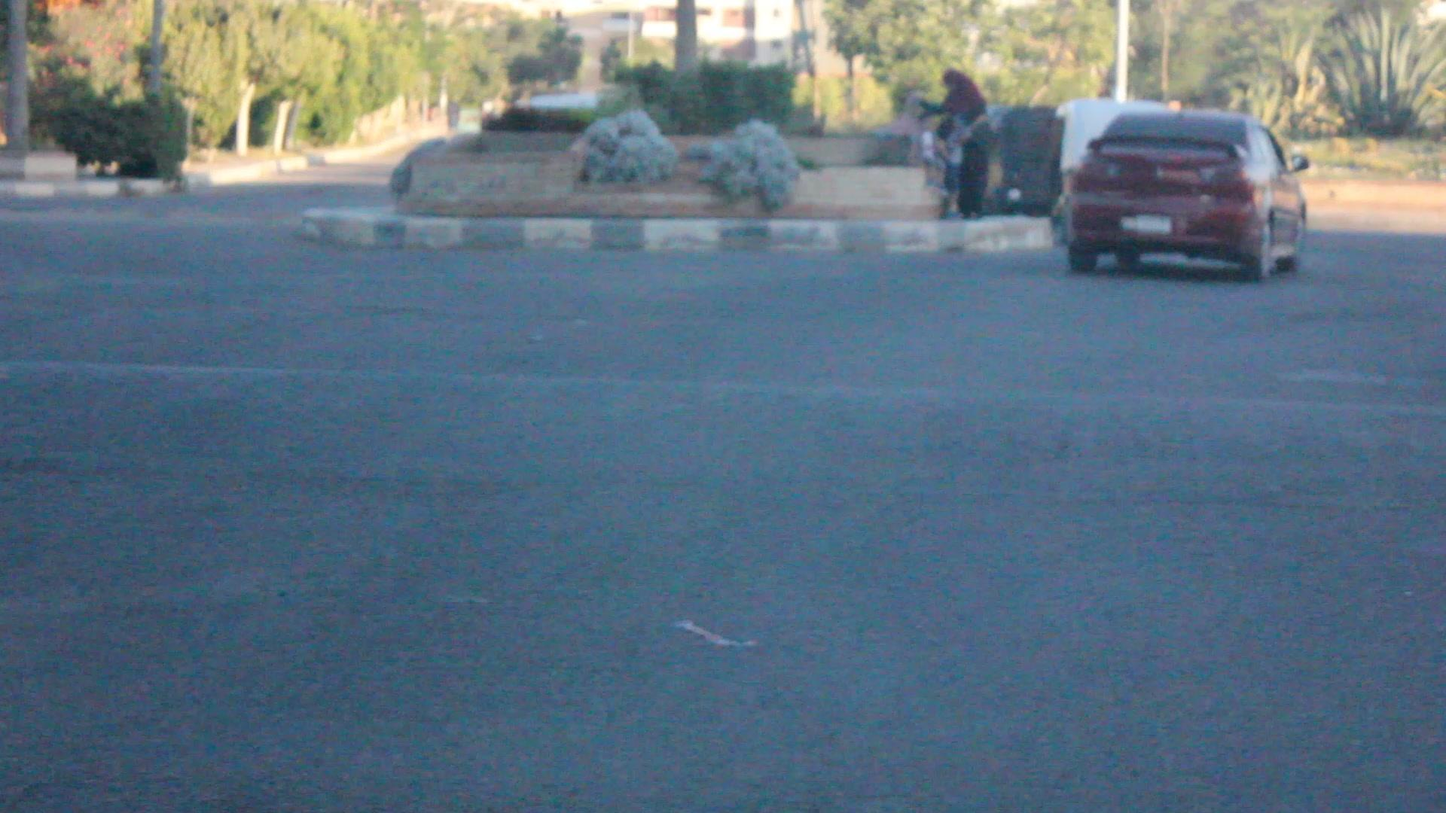Bump: (0, 358, 1445, 511)
